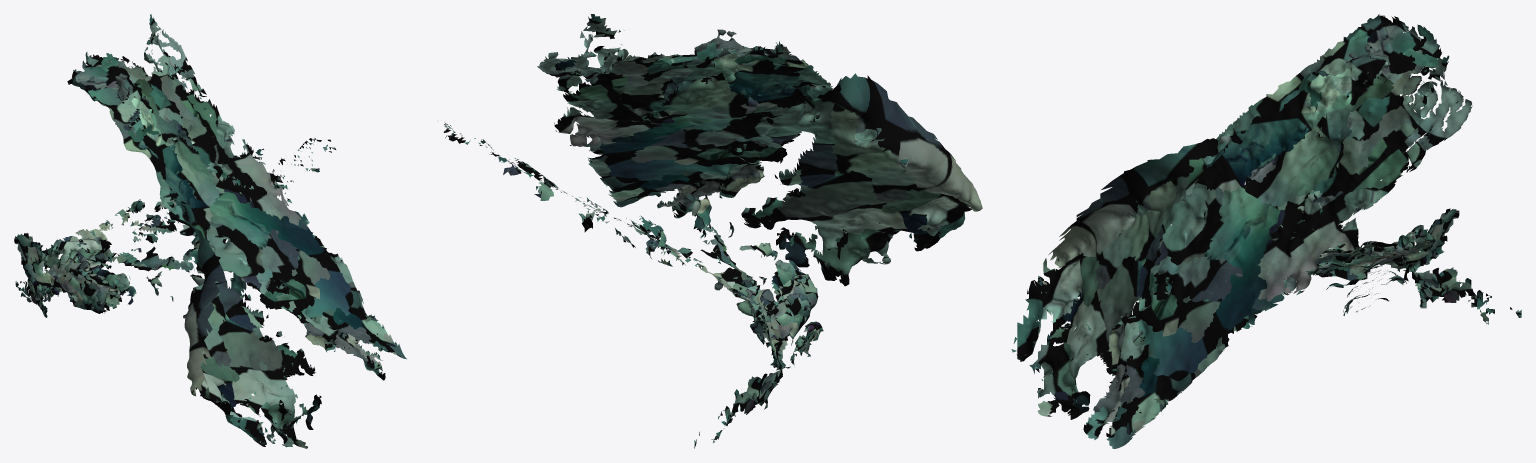
File: odm_textured_model_geo.obj
The picture shows the model from 3 angles, left to right: view 1: azimuth 30°, elevation 25°; view 2: azimuth 150°, elevation 25°; view 3: azimuth 270°, elevation 25°; orthographic projection. The views are drawn at different scales.
Size of the model in its own units: 125 by 131 by 164.
4 materials, 4 textured.
